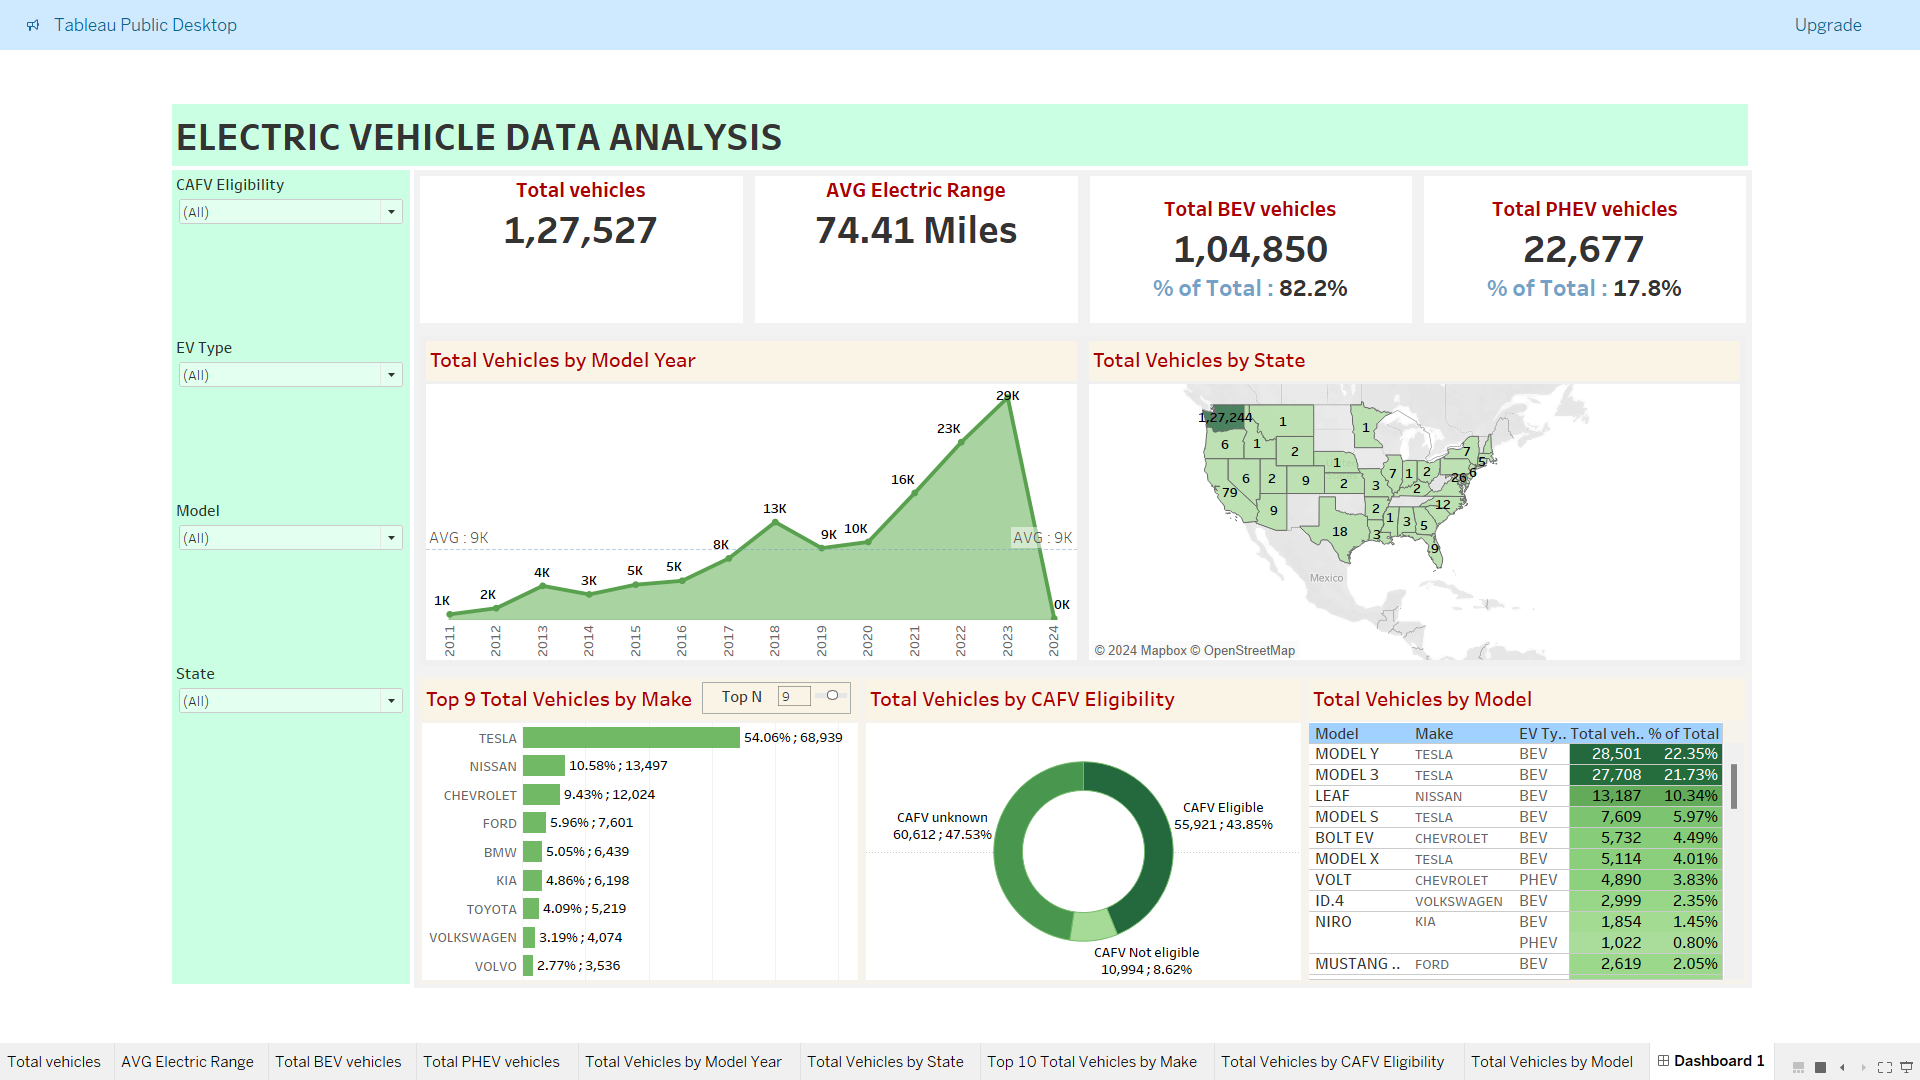

What the dashboard file says about the page in this screenshot:
{"tool":"tableau","page":{"name":"Dashboard 1","canvas":[1600,900],"ordinal":0},"visuals":[{"type":"title","box":[8,8,1584,66]},{"type":"filter","title":"Total Vehicles by Model Year","param":"[federated.1x8esc11breasw159iqtt15ypzjy].[none:Clean Alternative Fuel Vehicle (C","box":[12,74,238,163]},{"type":"worksheet","title":"Total vehicles","mark":"Automatic","box":[254,74,335,159]},{"type":"worksheet","title":"AVG Electric Range","mark":"Automatic","box":[589,74,335,159]},{"type":"worksheet","title":"Total BEV vehicles","mark":"Automatic","box":[924,74,334,159]},{"type":"worksheet","title":"Total PHEV vehicles ","mark":"Automatic","box":[1258,74,334,159]},{"type":"filter","title":"Total Vehicles by Model Year","param":"[federated.1x8esc11breasw159iqtt15ypzjy].[none:Electric Vehicle Type:nk]","box":[12,237,238,163]},{"type":"worksheet","title":"Total Vehicles by Model Year","mark":"Area","rows":["Calculation_1316458480579264512","Calculation_1316458480579264512"],"cols":["Model Year"],"box":[260,239,663,331]},{"type":"worksheet","title":"Total Vehicles by State","mark":"Multipolygon","box":[923,239,663,331]},{"type":"filter","title":"Total Vehicles by Model Year","param":"[federated.1x8esc11breasw159iqtt15ypzjy].[none:Model:nk]","box":[12,400,238,163]},{"type":"filter","title":"Total Vehicles by Model Year","param":"[federated.1x8esc11breasw159iqtt15ypzjy].[none:State:nk]","box":[12,563,238,163]},{"type":"worksheet","title":"Top 10 Total Vehicles by Make","mark":"Automatic","rows":["Make"],"cols":["Calculation_1316458480579264512"],"box":[258,580,444,308]},{"type":"worksheet","title":"Total Vehicles by CAFV Eligibility","mark":"Pie","rows":["Calculation_1316458480608866314","Calculation_1316458480608866314"],"box":[702,580,443,308]},{"type":"worksheet","title":"Total Vehicles by Model","mark":"Square","rows":["Model","Make","Electric Vehicle Type"],"box":[1145,580,443,308]},{"type":"parameter","param":"[Parameters].[Parameter 1]","box":[542,586,149,32]},{"type":"blank","box":[12,726,238,162]}]}

Visuals, with their boxes on the page's 1600x900 design canvas (x1, y1, x2, y2). These are canvas units, not pixel positions in the 1920x1080 screenshot, which may show the page scaled, cropped or inside an application window:
title: (8, 8, 1592, 74)
"Total Vehicles by Model Year" filter: (12, 74, 250, 237)
"Total vehicles" worksheet: (254, 74, 589, 233)
"AVG Electric Range" worksheet: (589, 74, 924, 233)
"Total BEV vehicles" worksheet: (924, 74, 1258, 233)
"Total PHEV vehicles " worksheet: (1258, 74, 1592, 233)
"Total Vehicles by Model Year" filter: (12, 237, 250, 400)
"Total Vehicles by Model Year" worksheet (Area marks): (260, 239, 923, 570)
"Total Vehicles by State" worksheet (Multipolygon marks): (923, 239, 1586, 570)
"Total Vehicles by Model Year" filter: (12, 400, 250, 563)
"Total Vehicles by Model Year" filter: (12, 563, 250, 726)
"Top 10 Total Vehicles by Make" worksheet: (258, 580, 702, 888)
"Total Vehicles by CAFV Eligibility" worksheet (Pie marks): (702, 580, 1145, 888)
"Total Vehicles by Model" worksheet (Square marks): (1145, 580, 1588, 888)
parameter: (542, 586, 691, 618)
blank: (12, 726, 250, 888)
